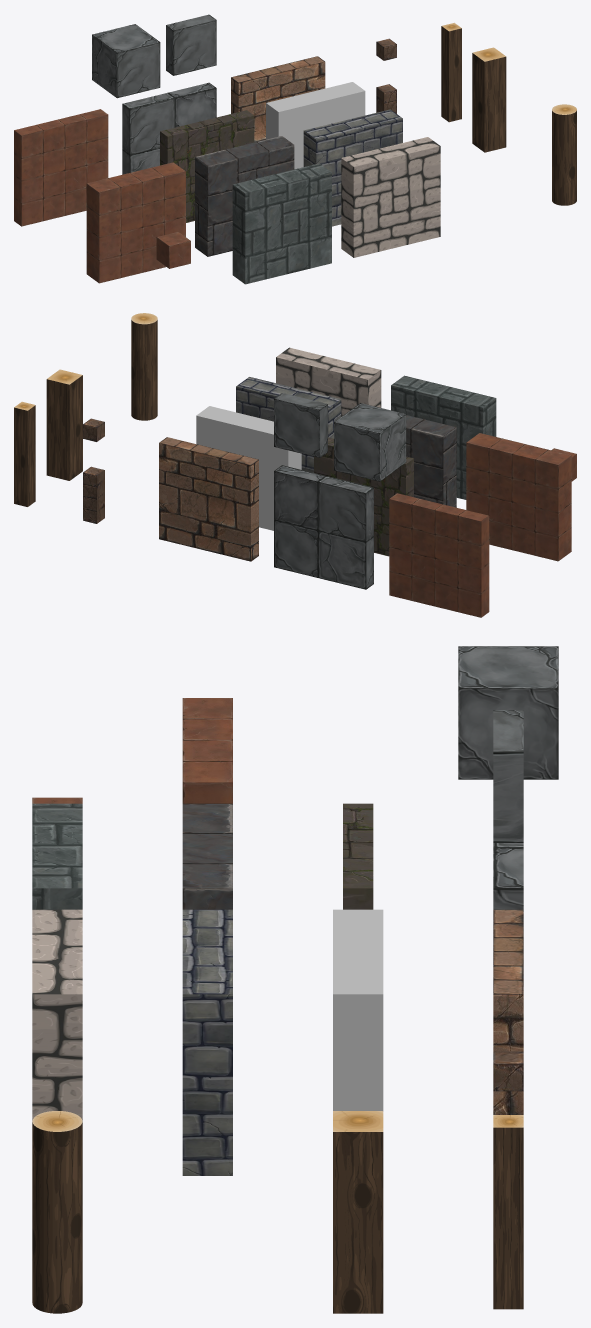
The picture shows the model from 3 angles, top to bottom: view 1: azimuth 30°, elevation 25°; view 2: azimuth 150°, elevation 25°; view 3: azimuth 270°, elevation 25°; orthographic projection. The views are drawn at different scales.
Visible parts, largest first — view 1: wall5, wall1, wall10_small, wall10, wall6, wall8, wall2, block2, wall3, wall7, wall4, pillar2_large (+6 smaller); view 2: wall10_small, wall10, wall8, wall4, wall5, block2, wall3, wall1, pillar2_large, wall6, wall8_small, Cylinder (+5 smaller); view 3: wall2, block2, wall1, pillar2_large, wall3, Cylinder, pillar2, wall5, wall6, wall10_small, wall4, wall8_small (+3 smaller).
Boxes of the visible parts, x1,y1,x2,y2 form: wall5: (232, 163, 331, 284); wall1: (341, 137, 440, 257); wall10_small: (86, 162, 185, 283); wall10: (14, 109, 108, 226); wall6: (195, 136, 294, 256); wall8: (122, 82, 216, 174); wall2: (303, 109, 402, 226); block2: (92, 24, 160, 98); wall3: (266, 82, 365, 169); wall7: (160, 110, 254, 222); wall4: (231, 56, 325, 142); pillar2_large: (472, 47, 506, 152); wall10_small: (466, 433, 571, 561); wall10: (389, 493, 489, 617); wall8: (274, 465, 373, 589); wall4: (159, 437, 258, 561); wall5: (391, 375, 496, 499); block2: (334, 403, 406, 481); wall3: (196, 406, 301, 530); wall1: (276, 347, 381, 416); pillar2_large: (46, 369, 82, 480); wall6: (406, 415, 456, 507); wall8_small: (274, 393, 327, 457); Cylinder: (131, 313, 157, 420); wall2: (182, 909, 232, 1175); block2: (458, 646, 558, 779); wall1: (32, 909, 82, 1120); pillar2_large: (333, 1111, 383, 1313); wall3: (333, 909, 383, 1110); Cylinder: (32, 1111, 82, 1313); pillar2: (493, 1115, 523, 1309); wall5: (32, 803, 82, 909); wall6: (182, 803, 232, 909); wall10_small: (182, 698, 232, 803); wall4: (493, 909, 523, 1114); wall8_small: (493, 710, 523, 842).
Bounding box in the file's own units: 2050 × 700 × 1050.
